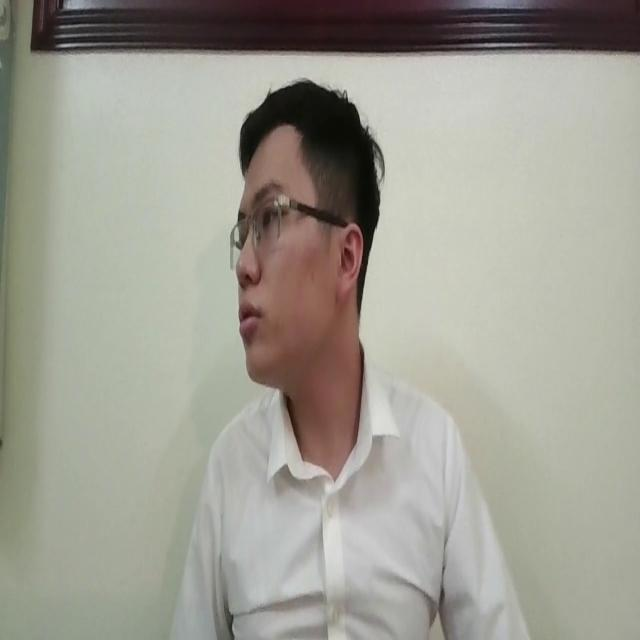student: (168, 78, 528, 640)
